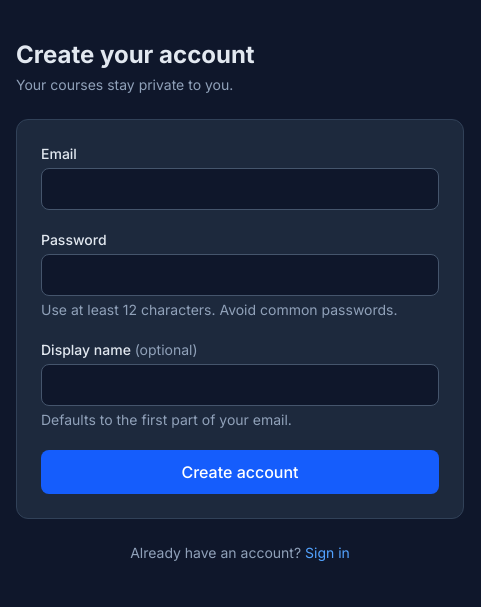
Register page › shows the wait time on a rate-limited attempt
This screenshot has width=481, height=607.
Type "ada@example.com" into the field labelled "Email".
click(240, 189); type("ada@example.com")  # box [41,168,439,210]
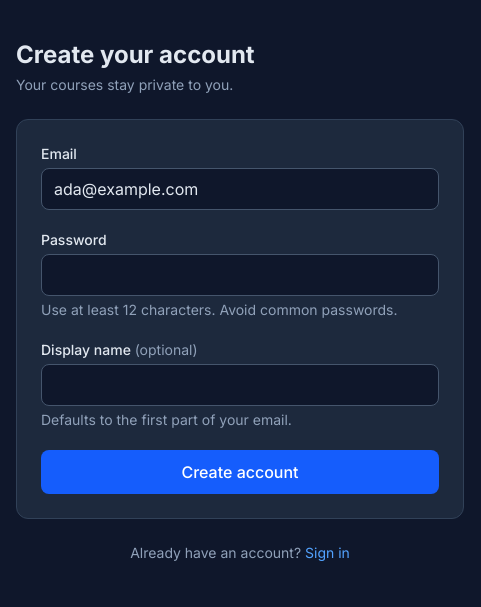
Type "correct horse battery" into the password field labelled "Password".
click(240, 275); type("correct horse battery")  # box [41,254,439,296]
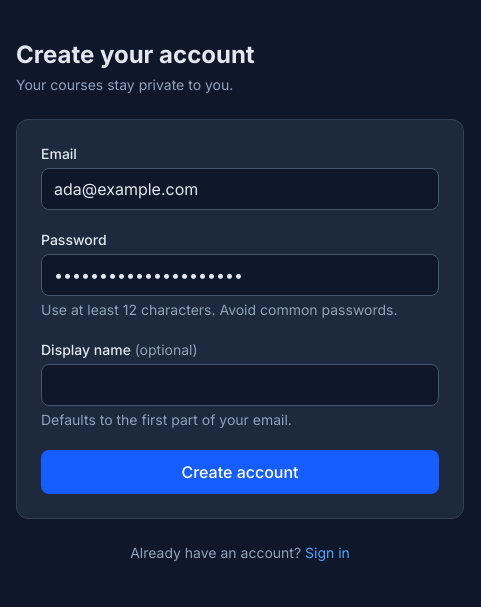
Click the button "Create account".
click(240, 472)  # box [41,450,439,494]
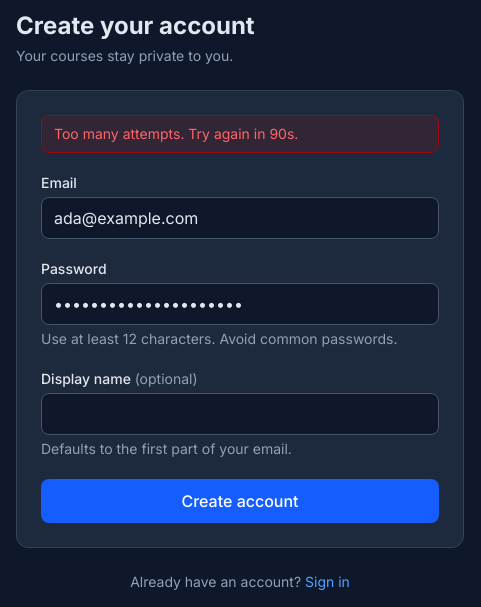
Now the message shows "90s", box [54,125,298,142]
